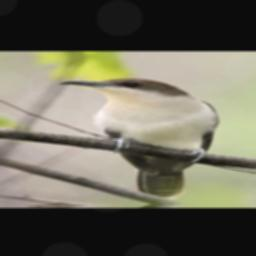Cuckoo: (55, 76, 236, 202)
